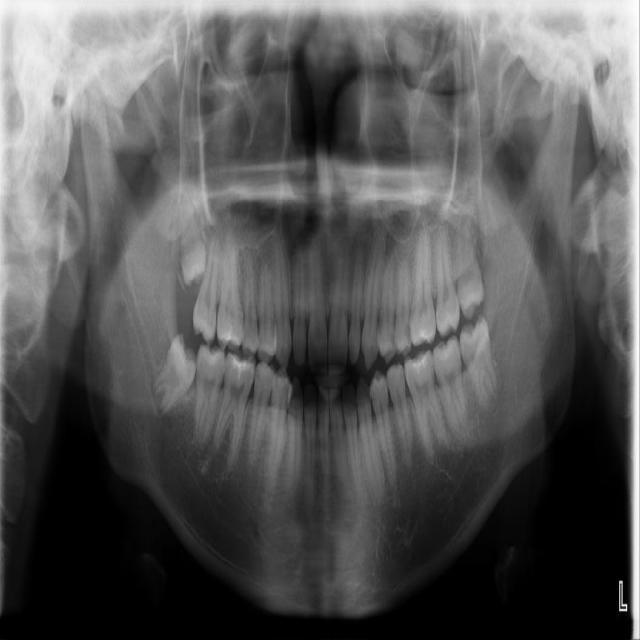3M ESPE Implant: (175, 191, 209, 288)
52: (218, 347, 259, 399), (402, 349, 438, 395), (407, 305, 439, 347), (217, 302, 244, 351)
73: (595, 590, 602, 608)
BioHorizons Implant: (434, 233, 460, 337)
BioLife Implant: (445, 218, 489, 322)
Biomet 3i Implant: (454, 313, 502, 412)
Blue Sky Bio Implant: (429, 334, 469, 437)
Caries: (192, 232, 220, 345)
Implant: (185, 342, 229, 447)
Keystone Dental Implant: (142, 330, 209, 423)
